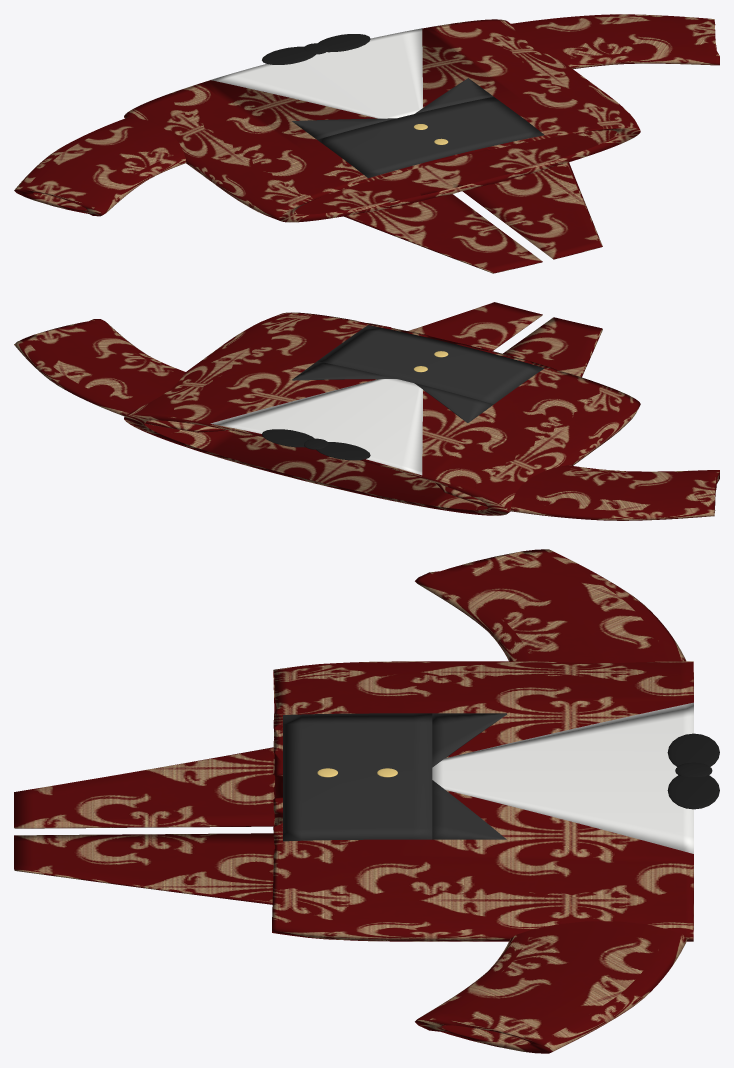
Rendered from tailcoat2.fbx.
The picture shows the model from 3 angles, top to bottom: view 1: azimuth 30°, elevation 25°; view 2: azimuth 150°, elevation 25°; view 3: azimuth 270°, elevation 25°; orthographic projection. The views are drawn at different scales.
Parts seen in each view (by area): view 1: tailcoat2; view 2: tailcoat2; view 3: tailcoat2.
Boxes of the visible parts, box(x1,y1,x2,y2) form: tailcoat2: box(14, 14, 719, 273); tailcoat2: box(14, 302, 719, 520); tailcoat2: box(14, 549, 719, 1053).
Bounding box in the file's own units: 1.59 × 0.0945 × 0.945.
Materials: 5 (1 with a texture image).
